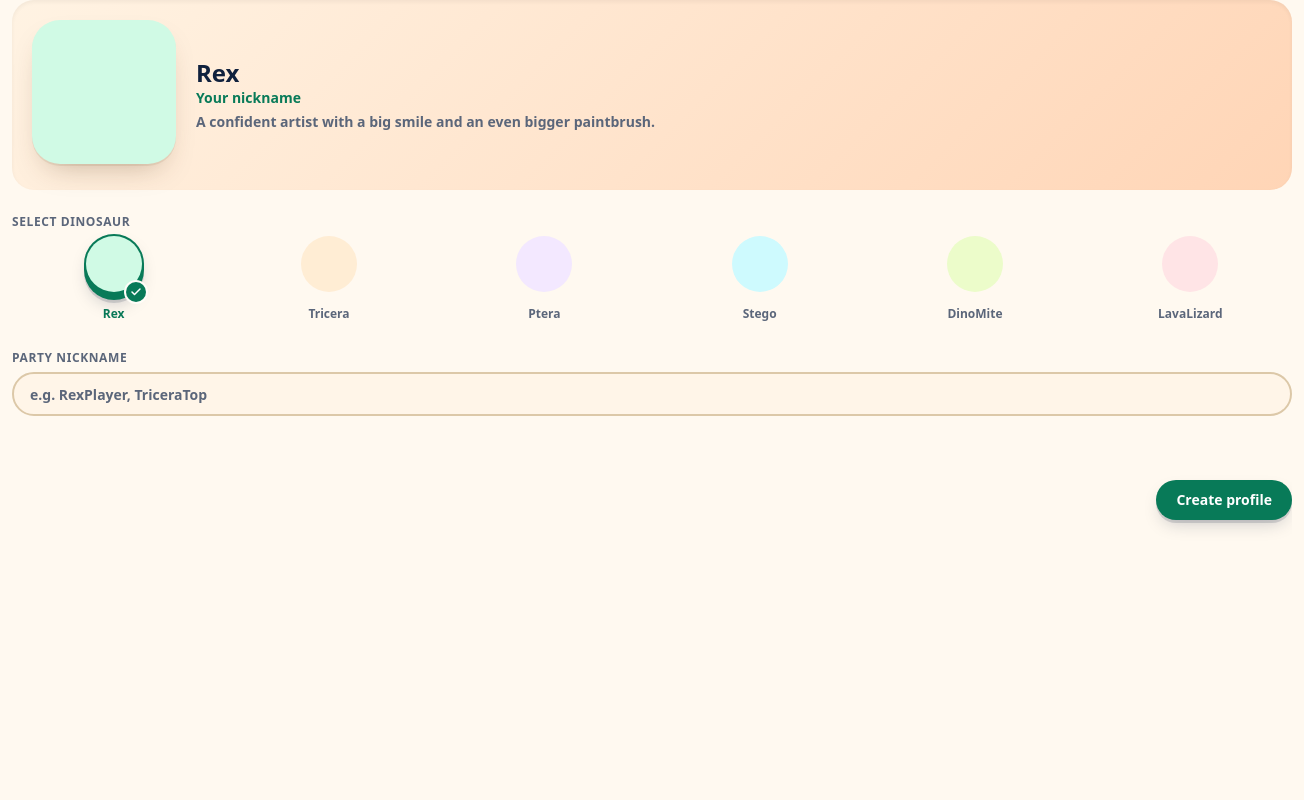
Test: GuestProfileForm › shows the server message for an invalid nickname
The image size is (1304, 800).
In the field labelled "Party nickname": (652, 394) 12,372 -> 1292,416, type "bad<>"
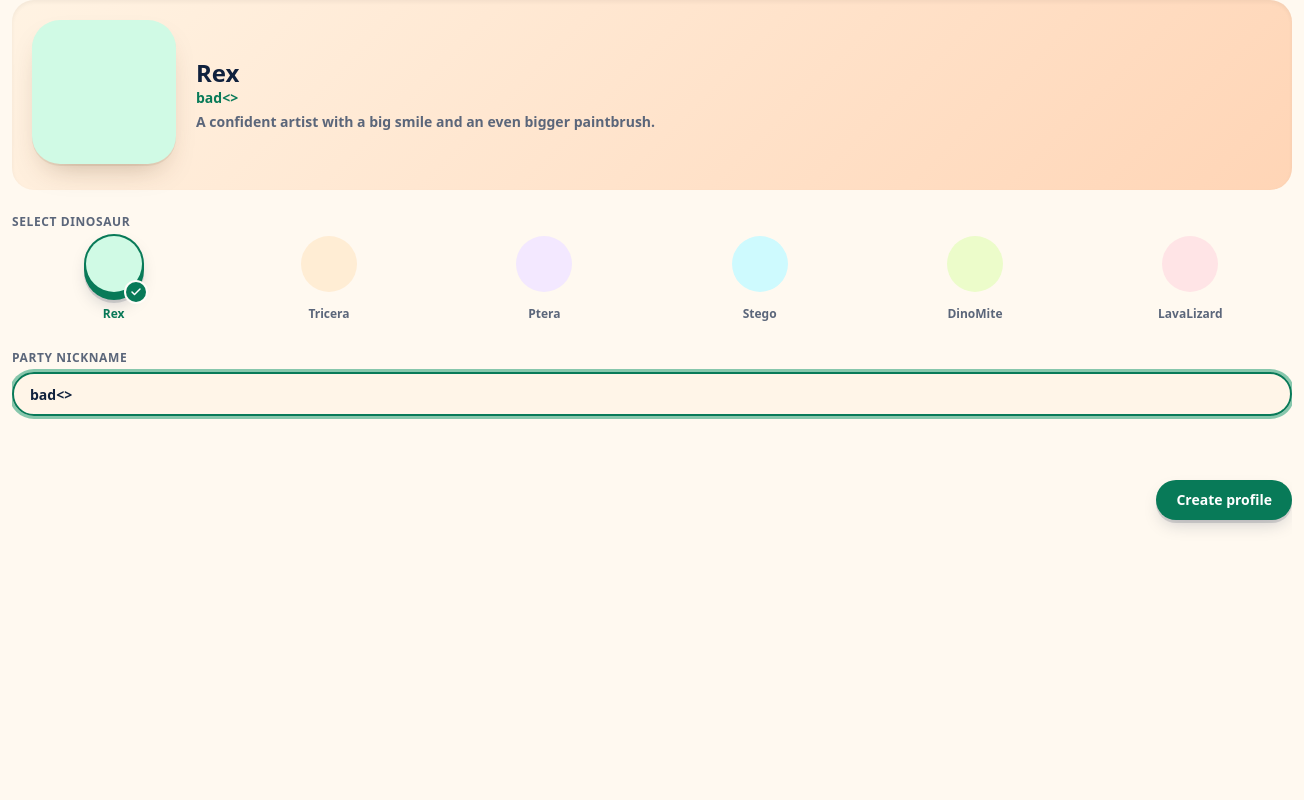
Click the button "Create profile": (1224, 500) 1156,480 -> 1292,520
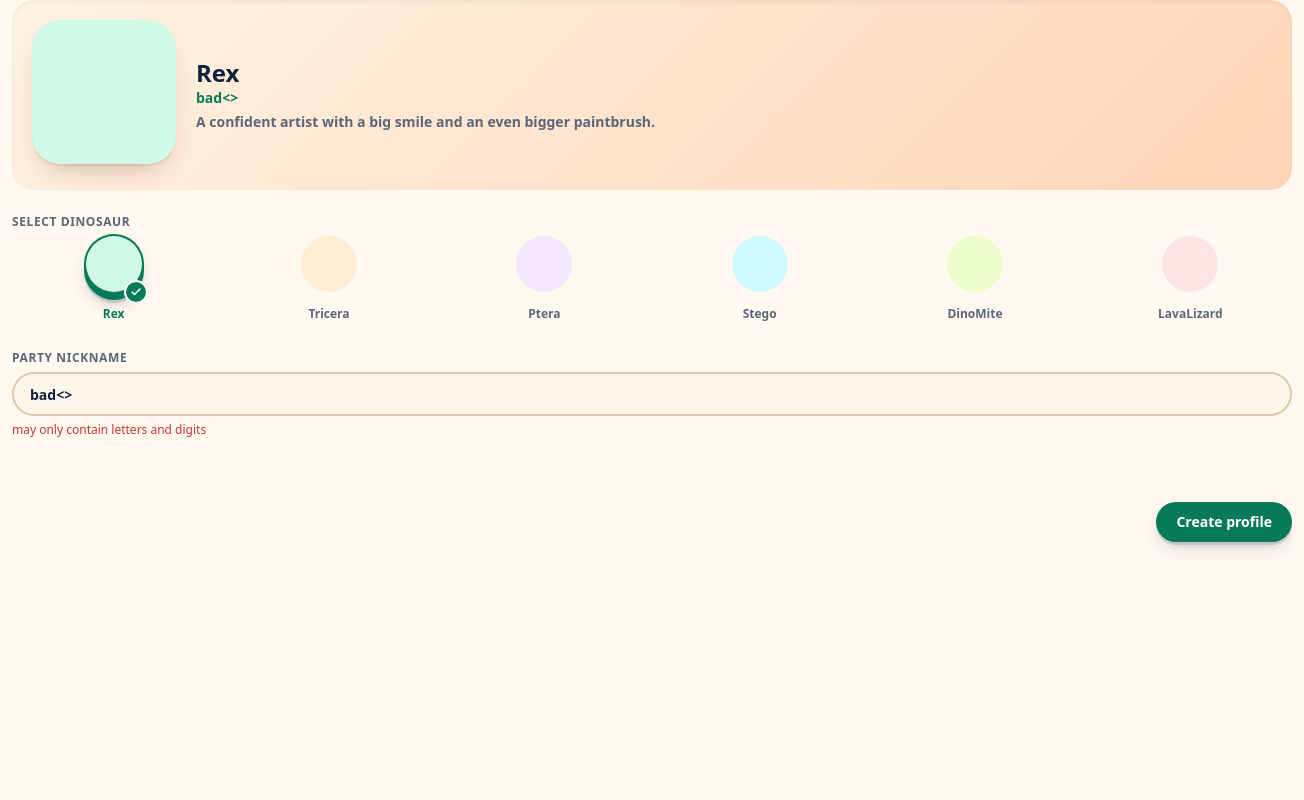
Check: the message reads "may only contain letters and digits", box 12,421 -> 206,438
